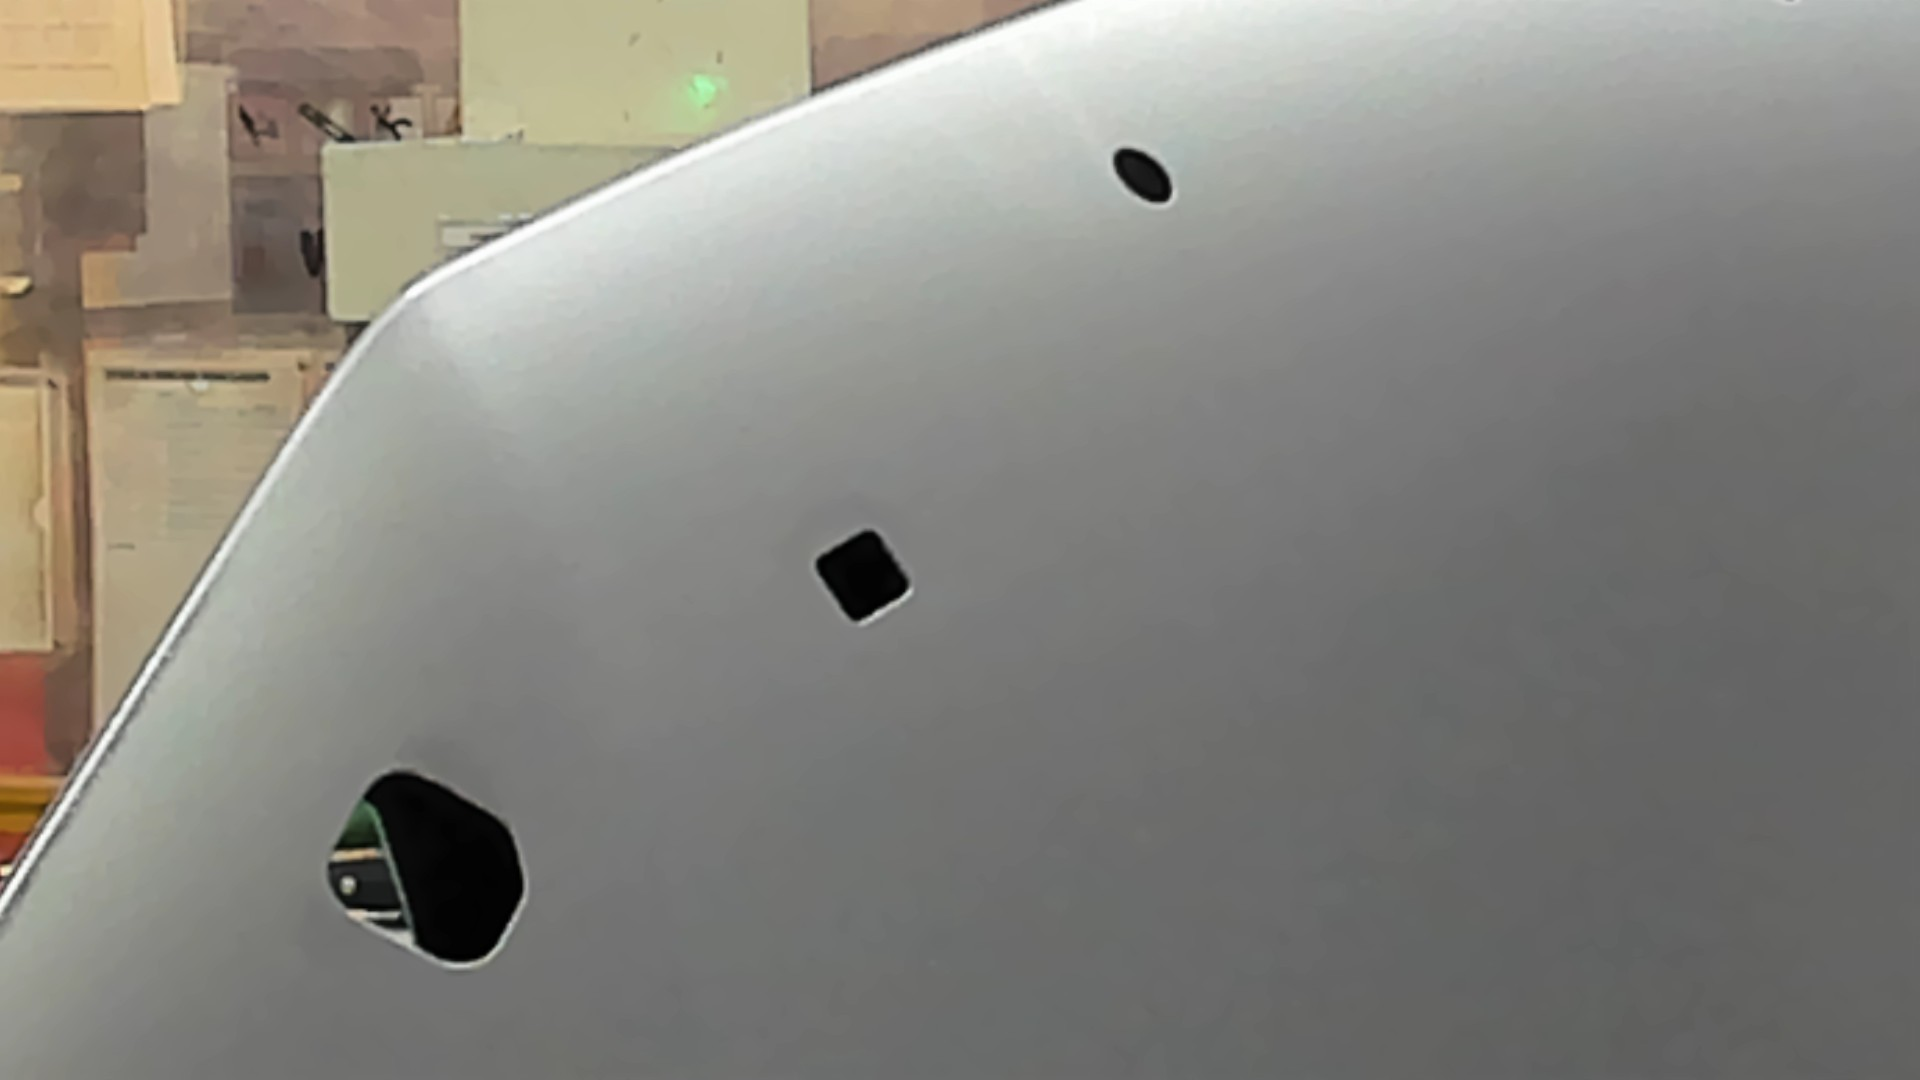chico: (1097, 132, 1191, 218)
grande: (286, 738, 546, 986)
mediano: (800, 505, 938, 650)
